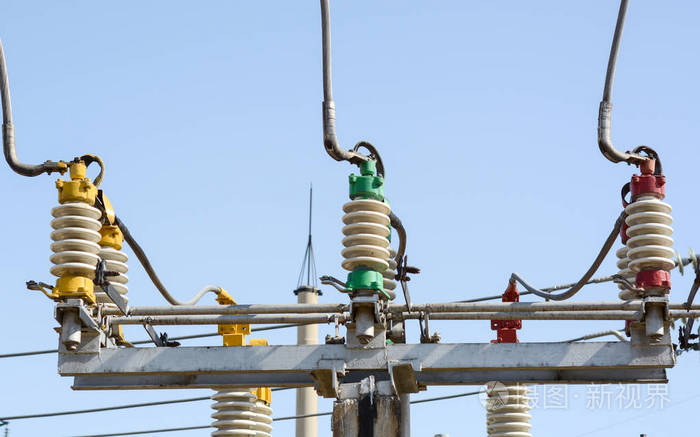insulator: (339, 199, 394, 273), (624, 199, 681, 269), (50, 199, 101, 276), (213, 384, 262, 437), (486, 386, 536, 437), (93, 247, 133, 303)
